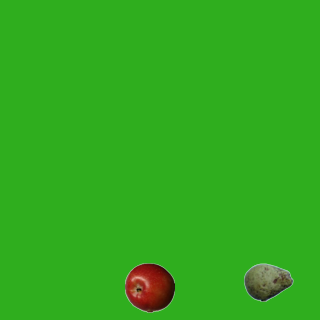Apple Braeburn: (124, 262, 174, 312)
Pear Stone: (243, 257, 293, 307)
